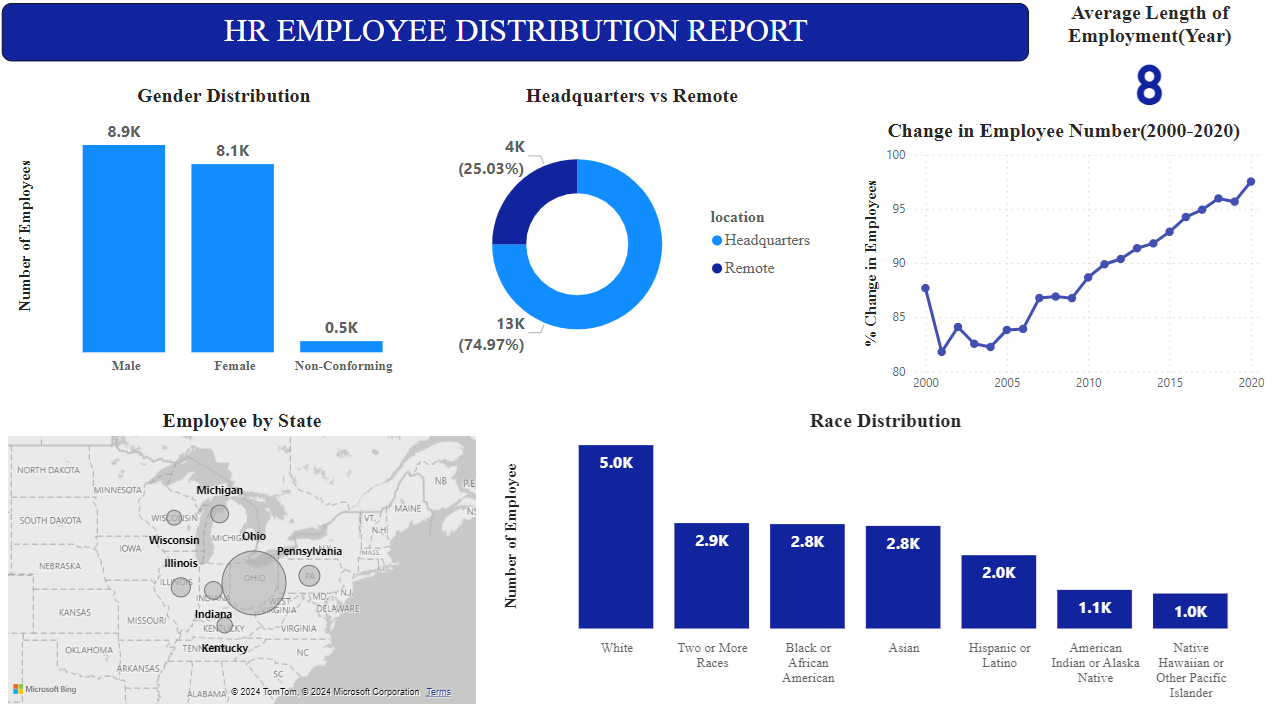

This screenshot's page, from the dashboard's own definition file:
{"tool":"powerbi","page":{"name":"Page 1","canvas":[1280,720],"ordinal":0},"visuals":[{"type":"textbox","box":[0,0,1026.9,59],"z":0},{"type":"card","title":"Average Length of Employment(Year)","fields":{"Values":["Sum(avg_length_employment.avg_length_employment)"]},"box":[1026.9,0,244,120.7],"z":1000},{"type":"columnChart","title":"Gender Distribution","fields":{"Category":["gender.gender"],"Y":["Sum(gender.count)"]},"box":[0,86.4,431.9,298.9],"z":2000},{"type":"donutChart","title":"Headquarters vs Remote","fields":{"Category":["location.location"],"Y":["Sum(location.emp_count)"]},"box":[441.5,86.4,385.3,298.9],"z":3000},{"type":"lineChart","title":"Change in Employee Number(2000-2020)","fields":{"Category":["employee_change.year"],"Y":["Sum(employee_change.net_change_percentage)"]},"box":[860,121.1,411.1,282.2],"z":4000},{"type":"map","title":"Employee bt State","fields":{"Category":["states.location_state"],"Size":["Sum(states.count)"]},"box":[0,411.1,477.8,298.9],"z":5000},{"type":"columnChart","title":"Race Distribution","fields":{"Category":["race.race"],"Y":["Sum(race.count)"]},"box":[468.9,411.1,802.2,298.9],"z":6000}]}

Visuals, with their boxes in screenshot pixels (x1, y1, x2, y2), scaled from the page's 1280x720 canvas onto the 1277x716 screenshot:
textbox: rect(0, 0, 1024, 59)
"Average Length of Employment(Year)" card: rect(1024, 0, 1268, 120)
"Gender Distribution" columnChart: rect(0, 86, 431, 383)
"Headquarters vs Remote" donutChart: rect(440, 86, 825, 383)
"Change in Employee Number(2000-2020)" lineChart: rect(858, 120, 1268, 401)
"Employee bt State" map: rect(0, 409, 477, 706)
"Race Distribution" columnChart: rect(468, 409, 1268, 706)
